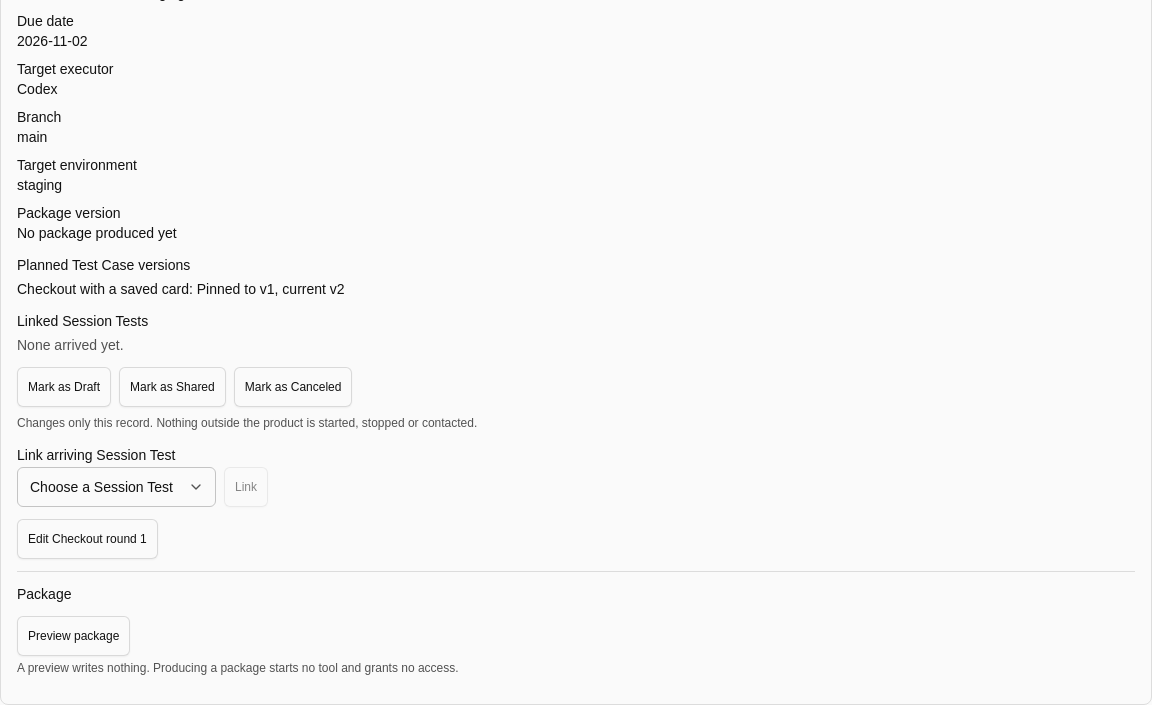
Test: previews a closed-world package and produces it only on explicit confirm
(page scrolled)
Click the button "Preview package" at (74, 636), box [17,616,130,656]
(page scrolled)
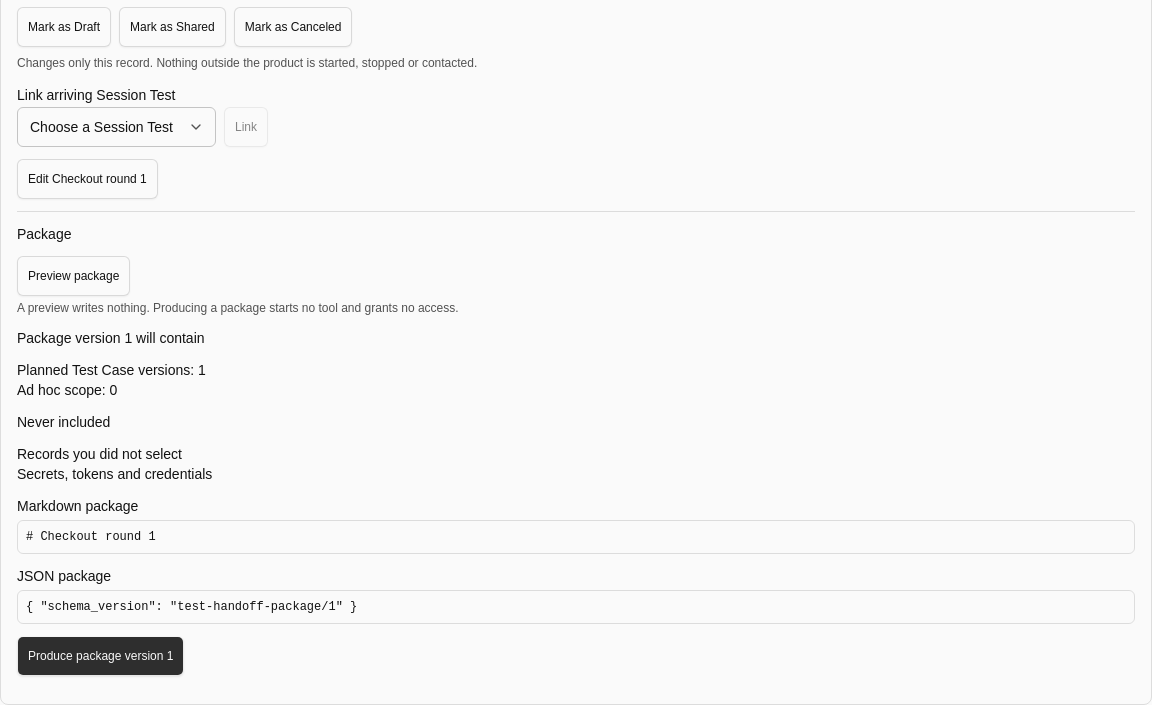
Expected: the text "Package version 1 will contain" is shown, [17,330,204,346]
Expected: the text "Never included" is shown, [17,414,110,430]
Expected: the text "Secrets, tokens and credentials" is shown, [17,466,212,482]
Click the button "Produce package version 1" at (101, 656), box [17,636,184,676]
(page scrolled)
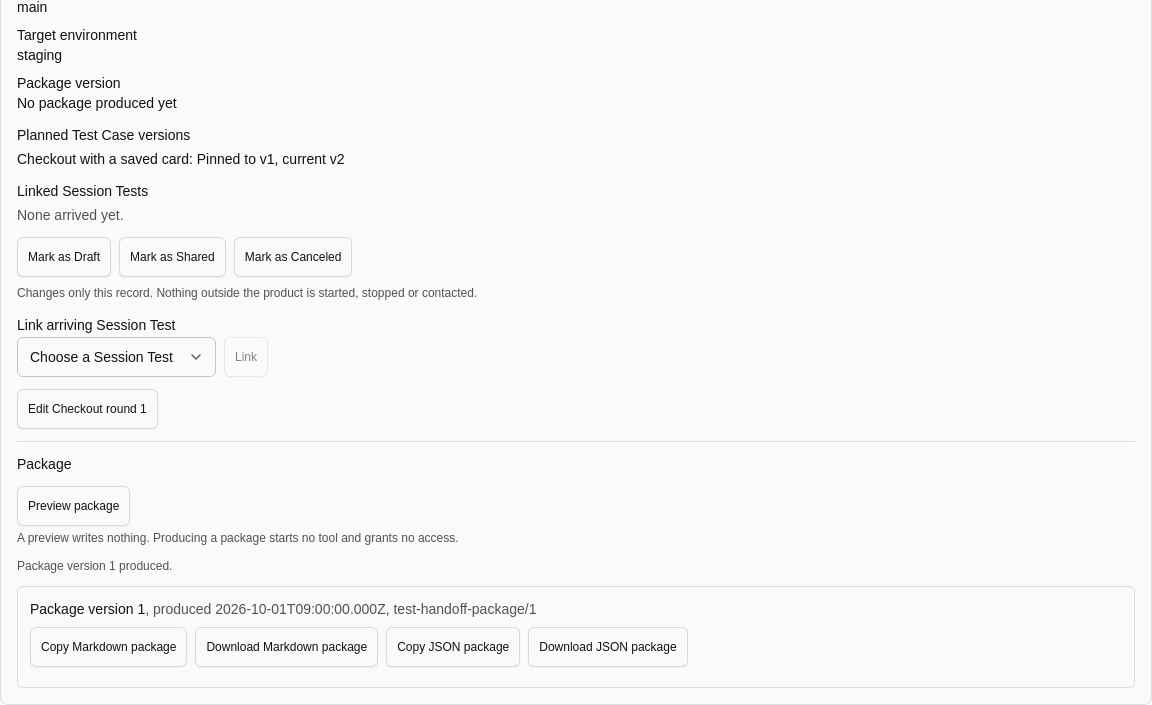
Expected: the text "Package version 1 produced." is shown, [17,559,172,573]
Expected: the button "Copy Markdown package" is shown, [30,627,187,667]
Expected: the button "Download Markdown package" is shown, [195,627,378,667]
